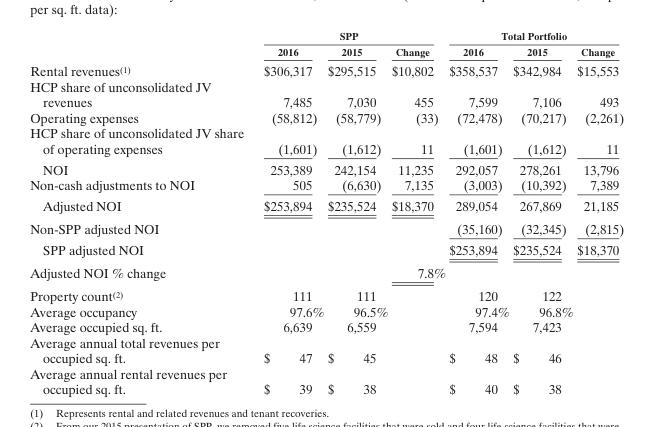table: (29, 29, 623, 396)
table column: (29, 29, 253, 396), (253, 29, 325, 396), (325, 29, 389, 396), (446, 29, 510, 396), (510, 29, 574, 396), (389, 29, 446, 396), (574, 29, 623, 396)
table column header: (29, 29, 623, 59)
table row: (29, 125, 623, 158), (29, 78, 623, 109), (29, 334, 623, 365), (29, 365, 623, 396), (29, 260, 623, 283), (29, 194, 623, 216), (29, 216, 623, 238), (29, 238, 623, 260), (29, 283, 623, 303), (29, 59, 623, 78), (29, 158, 623, 176), (29, 176, 623, 194), (29, 43, 623, 59), (29, 109, 623, 125), (29, 318, 623, 334), (29, 303, 623, 318), (29, 29, 623, 43)
table spanning cell: (253, 29, 446, 43), (446, 29, 623, 43)
